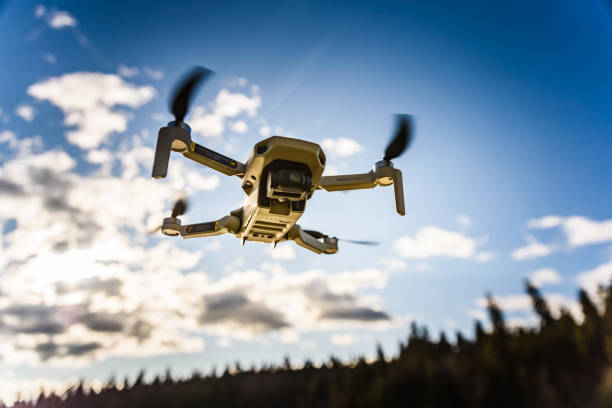Drone: (145, 57, 417, 265)
